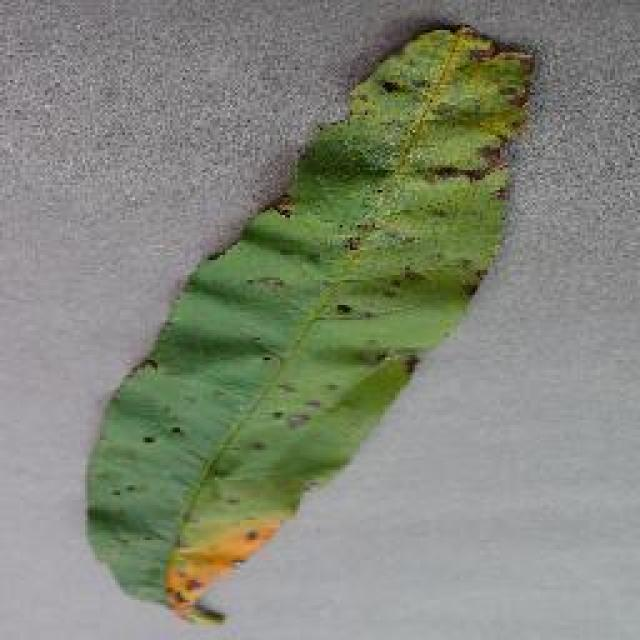Peach_Bacterial_Spot: (252, 83, 546, 402)
